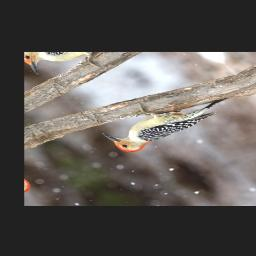Woodpecker: (87, 78, 243, 156)
